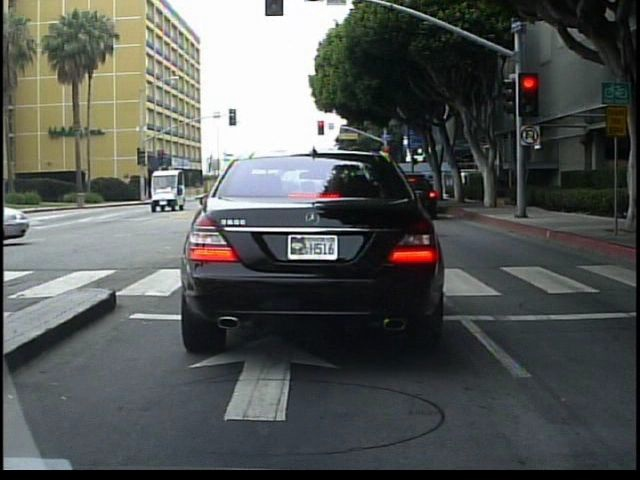person: (343, 144, 388, 282), (311, 143, 348, 273)
